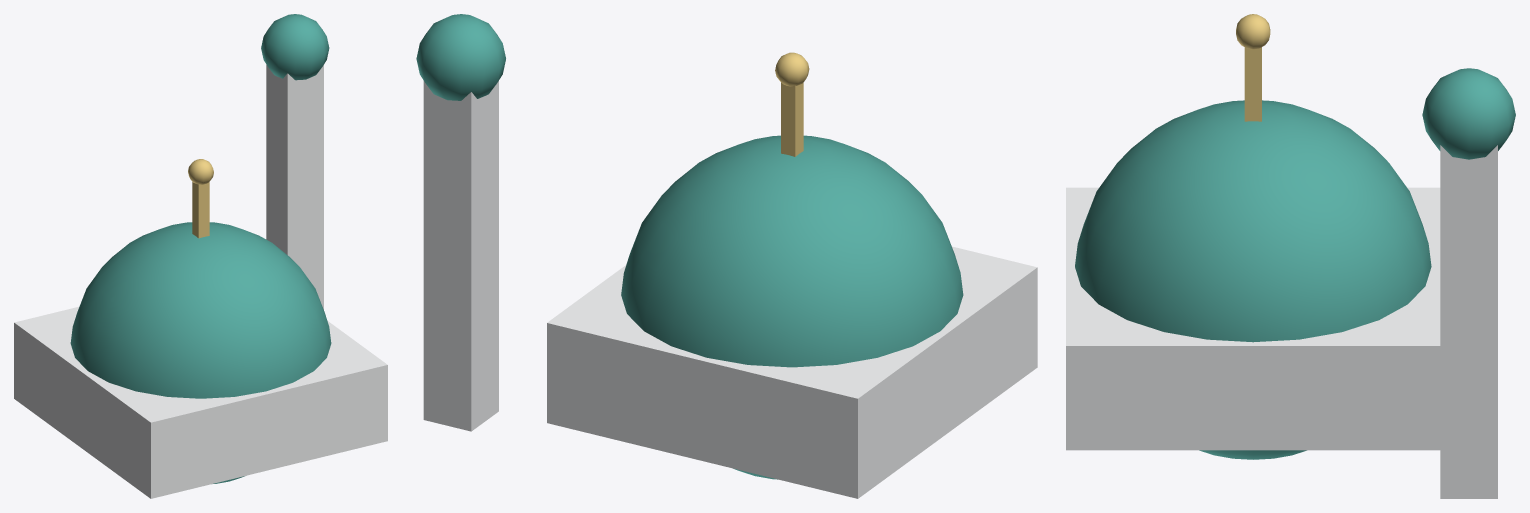
Rendered from mosque-roof.glb.
The picture shows the model from 3 angles, left to right: view 1: azimuth 30°, elevation 25°; view 2: azimuth 150°, elevation 25°; view 3: azimuth 270°, elevation 25°; orthographic projection. The views are drawn at different scales.
Parts seen in each view (by area): view 1: mosque-roof; view 2: mosque-roof; view 3: mosque-roof.
Boxes of the visible parts, <box> form: mosque-roof: <box>14,14,387,498</box>; mosque-roof: <box>416,14,1037,498</box>; mosque-roof: <box>1066,14,1515,498</box>.
Bounding box in the file's own units: 0.705 × 0.745 × 0.625.
